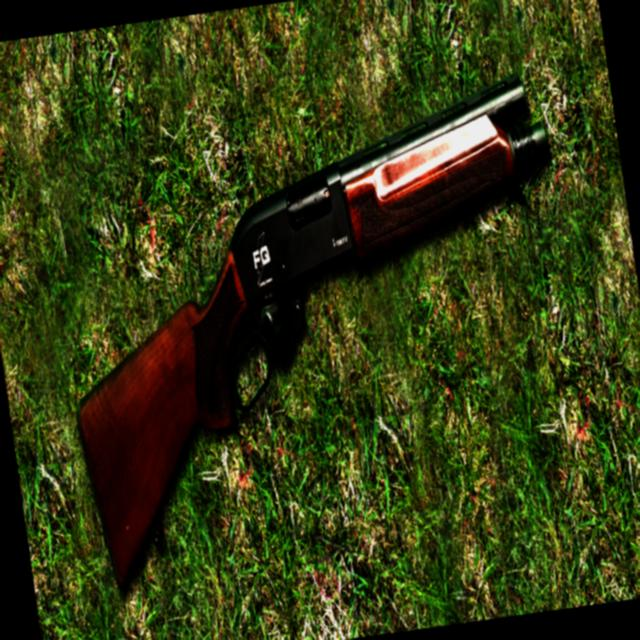shotgun: (37, 64, 616, 616)
